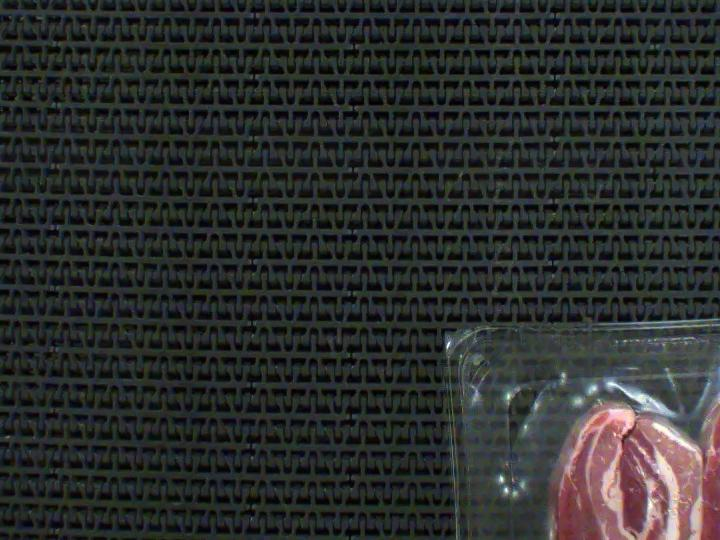unsealed: (501, 313, 720, 530)
